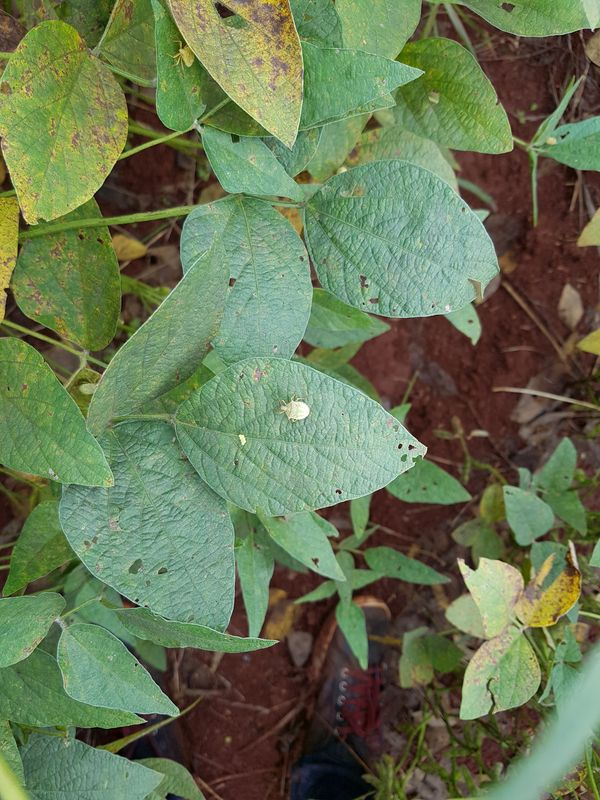Euschistus_heros_ninfa: (270, 391, 314, 429), (163, 36, 201, 73)
